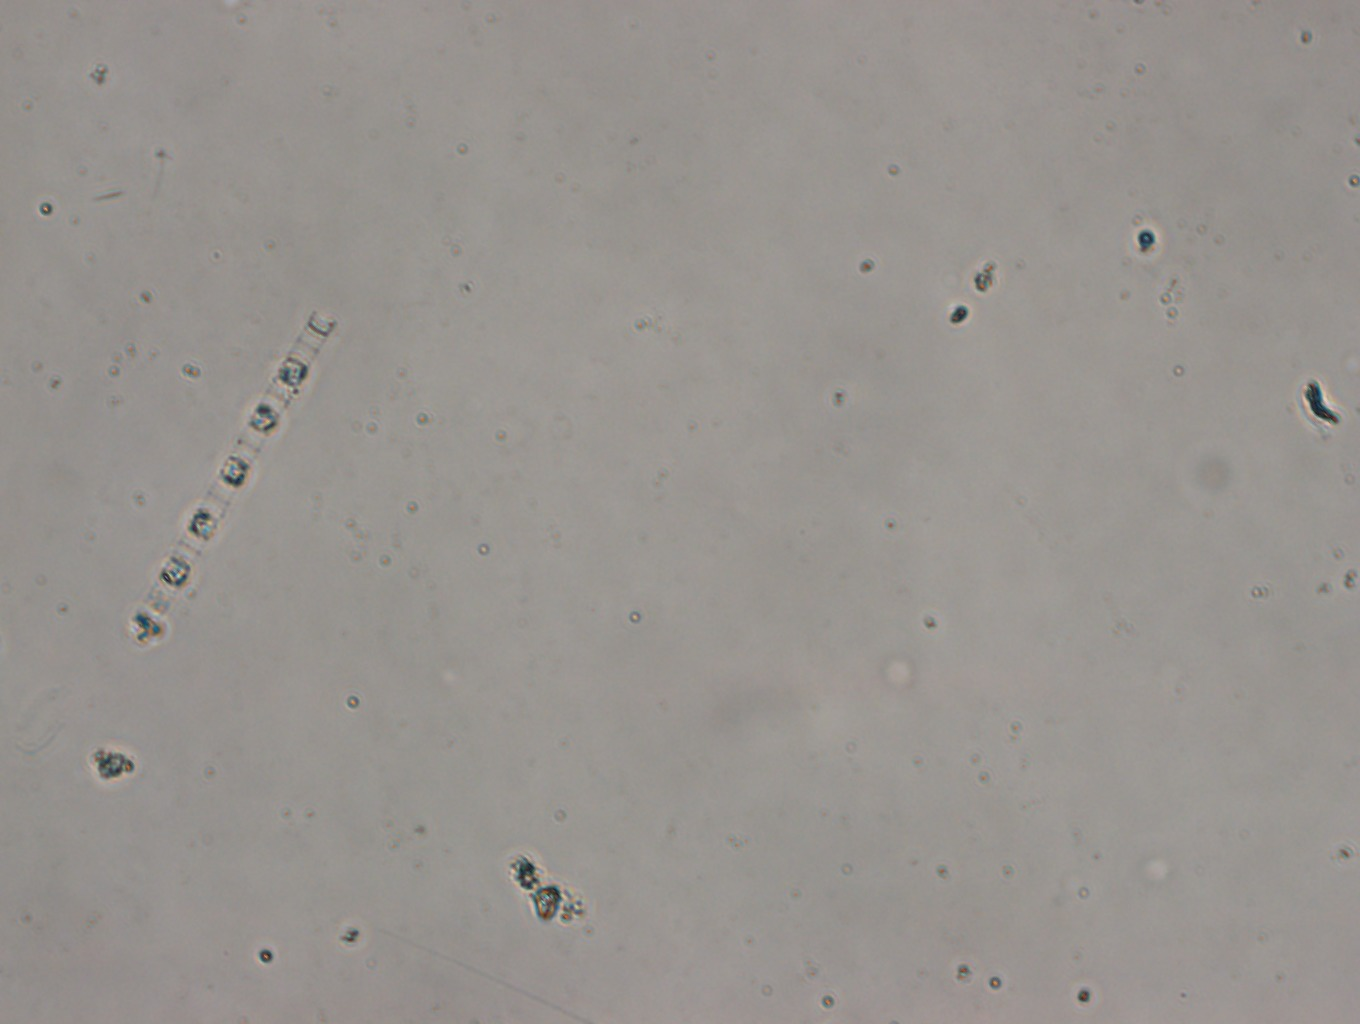skeletonema: (125, 303, 337, 646)
